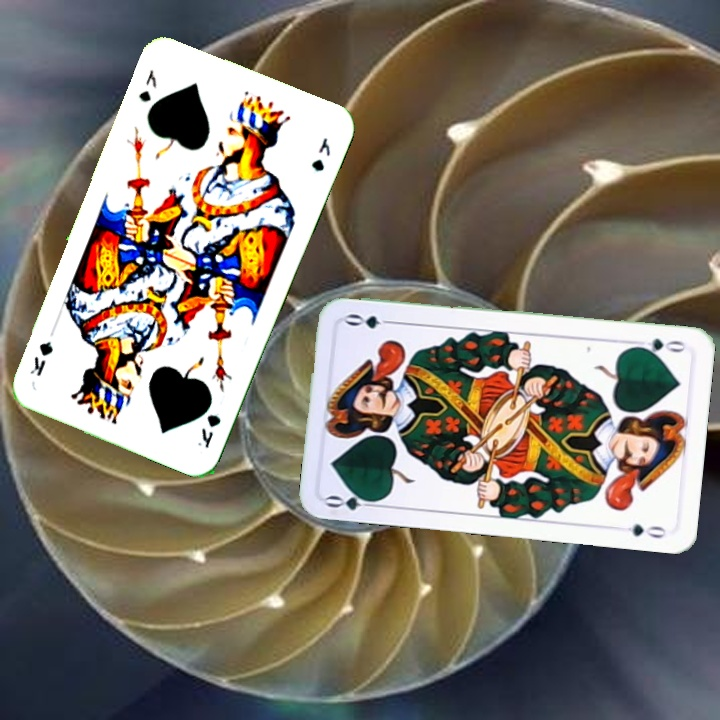GK: (193, 410, 224, 451), (134, 65, 160, 105)
GO: (323, 486, 382, 513), (629, 334, 688, 357)
